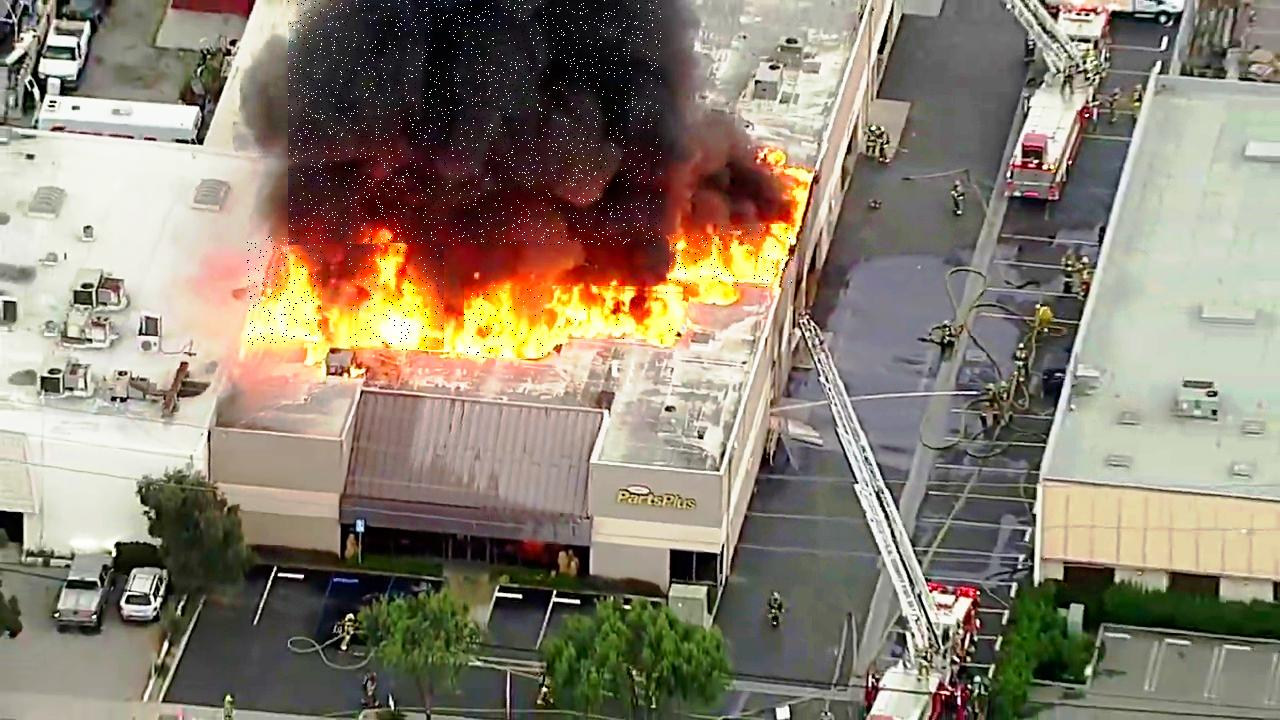fire: (347, 235, 444, 350), (247, 237, 322, 346), (543, 287, 689, 342), (465, 285, 547, 358), (722, 224, 794, 288), (670, 234, 737, 284)
smoke: (289, 0, 662, 245)
